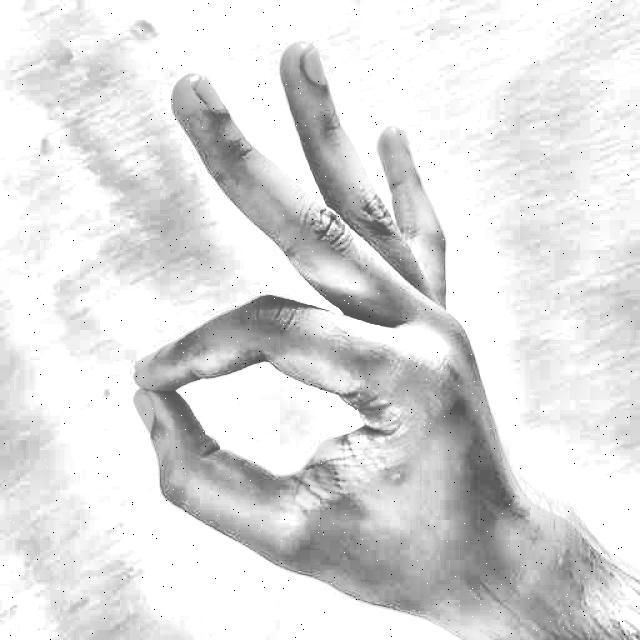Ca: (107, 21, 604, 640)
